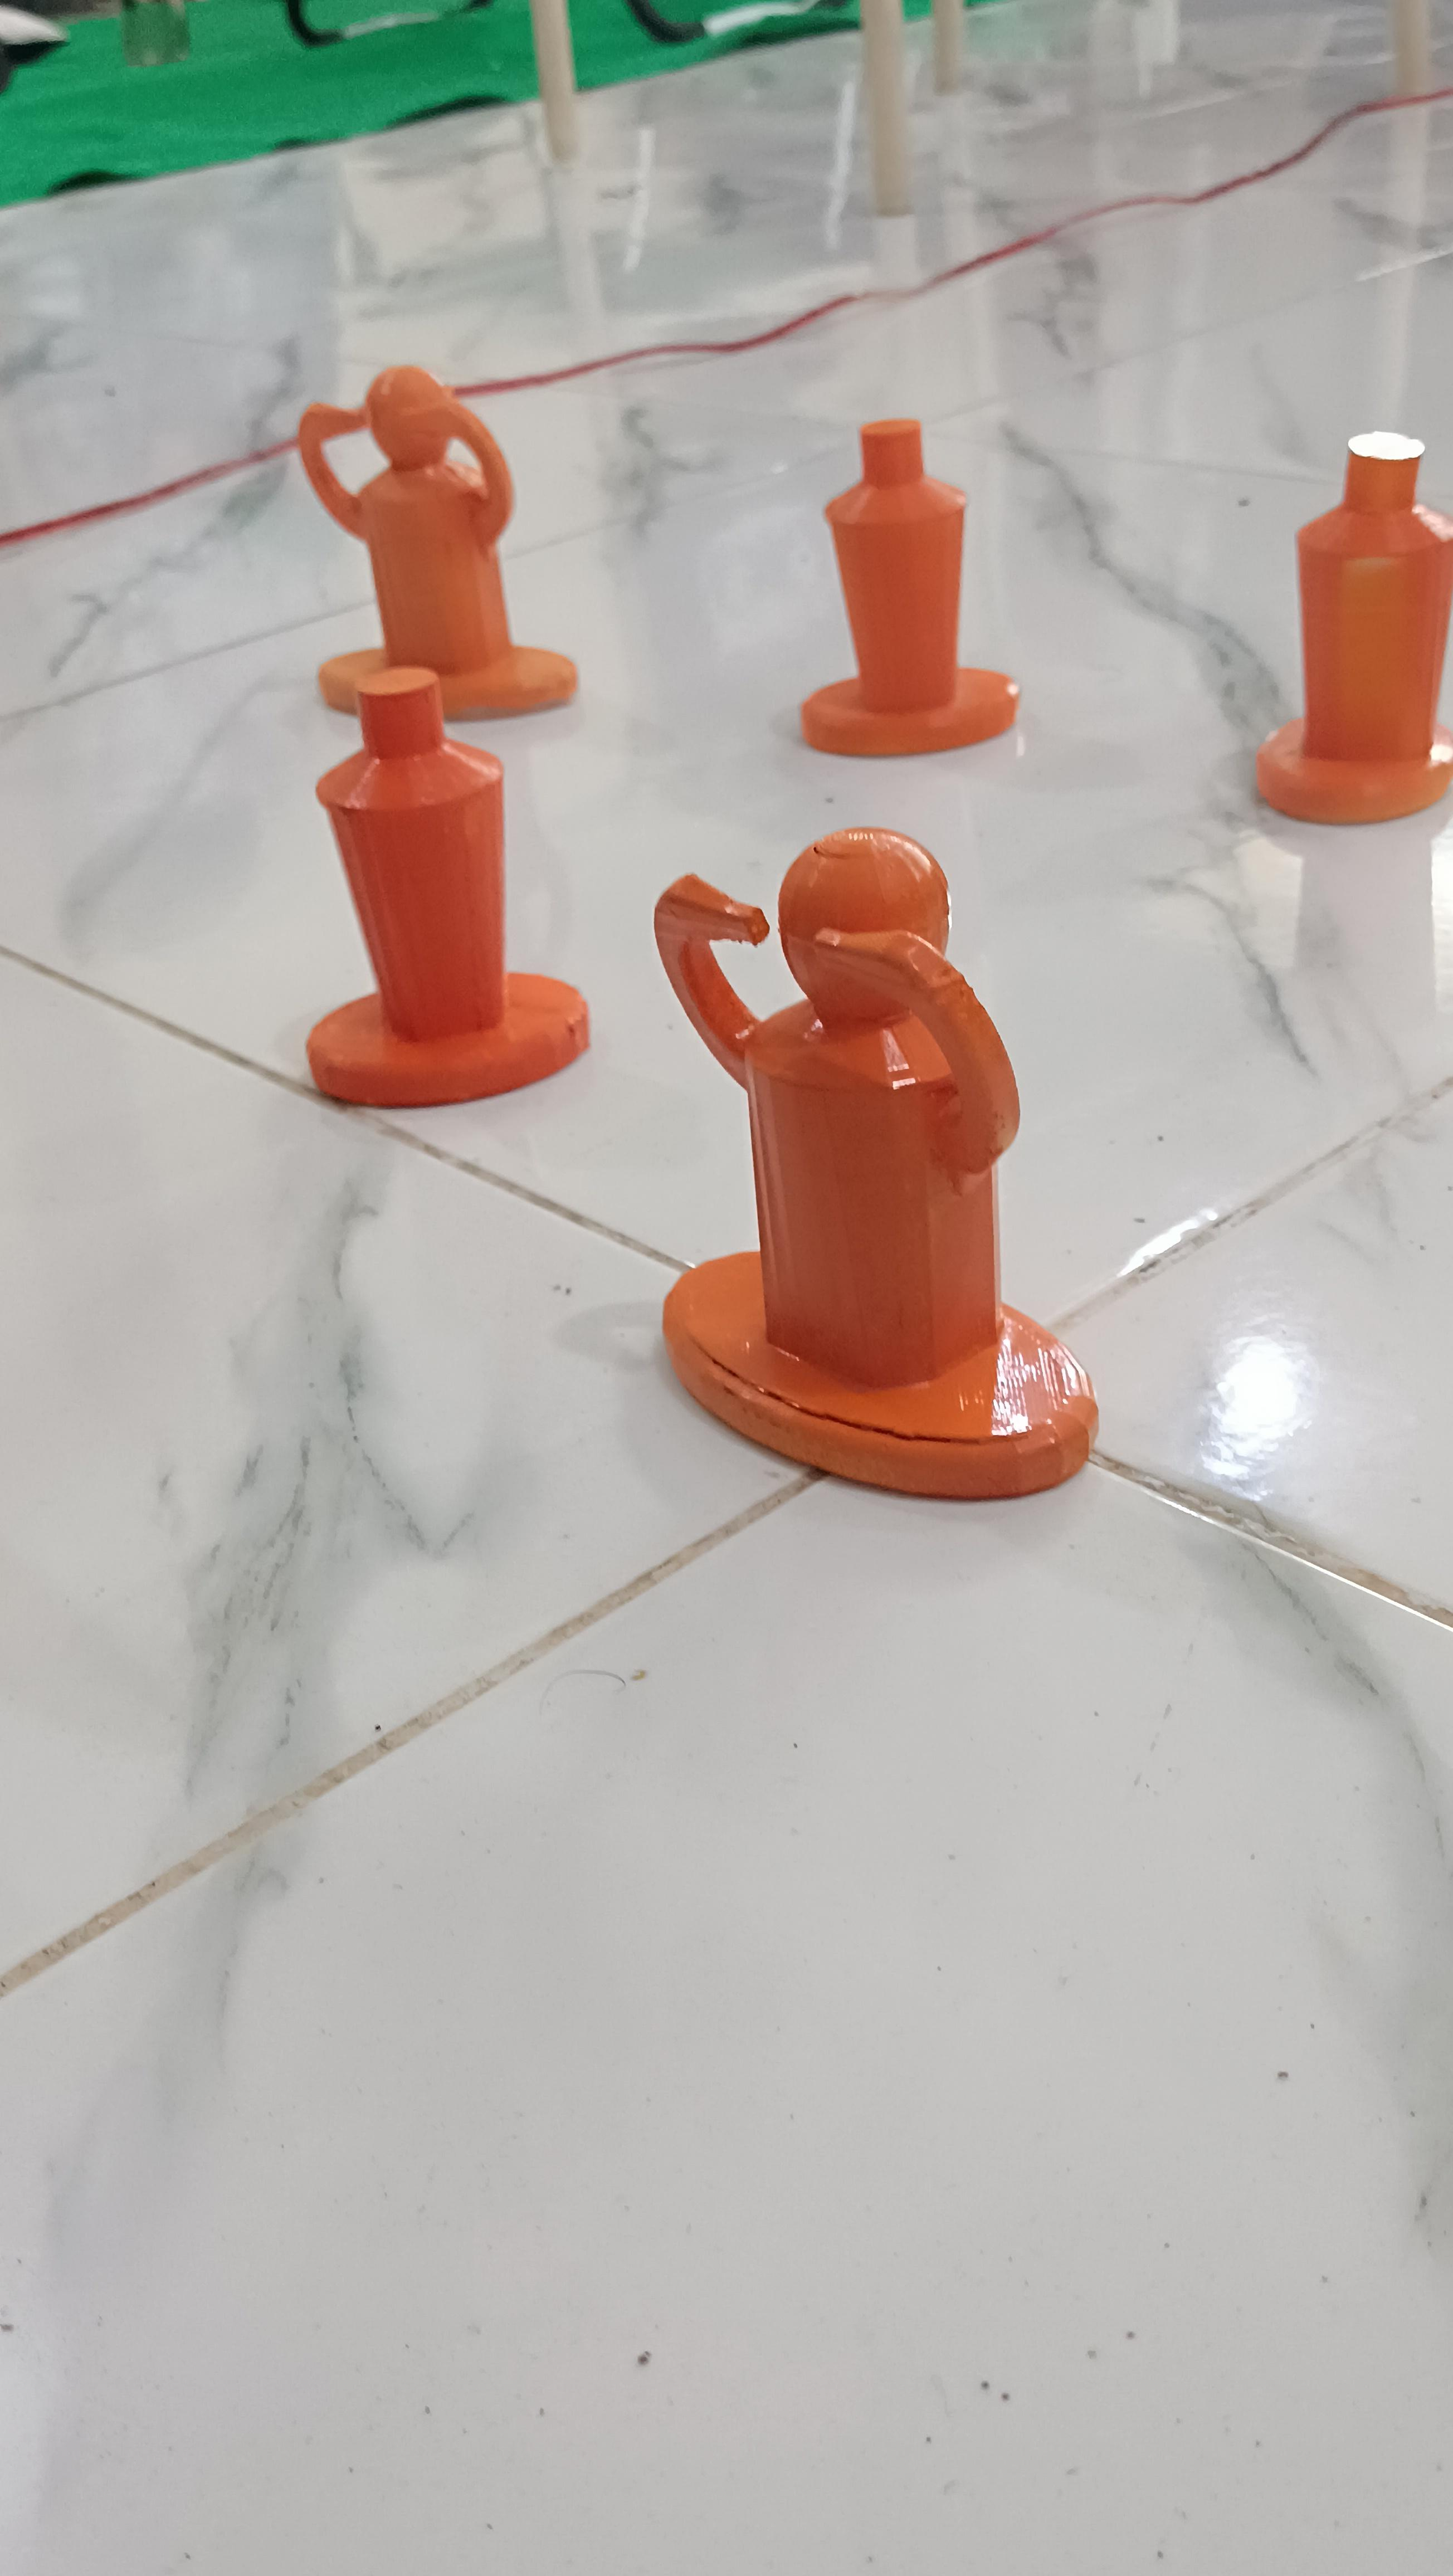dummy: (242, 670, 582, 1142), (724, 390, 1057, 772), (1247, 418, 1453, 841)
real_person: (638, 808, 1139, 1538), (287, 345, 547, 652)
